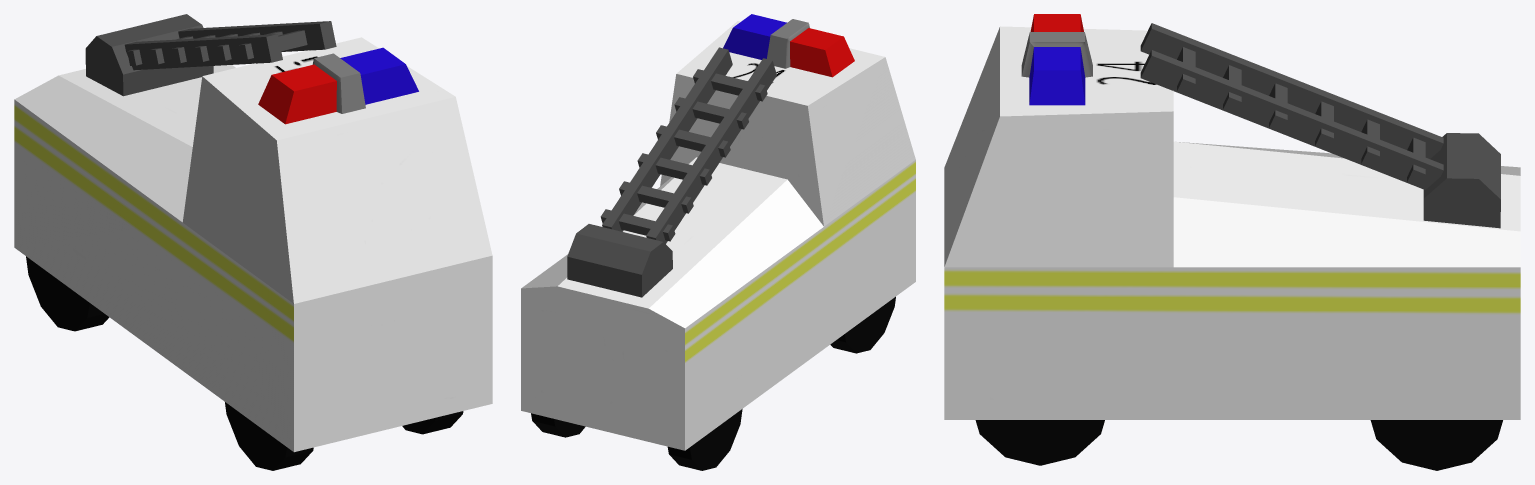
Rendered from firetruck_Two_Four.fbx.
3 renders of one model, left to right at view 1: azimuth 30°, elevation 25°; view 2: azimuth 150°, elevation 25°; view 3: azimuth 270°, elevation 25°, orthographic. The views are drawn at different scales.
Visible parts, largest first — view 1: polySurface41, pCube24, polySurface18, polySurface17, polySurface16; view 2: polySurface41, pCube24, polySurface18, polySurface17, polySurface15; view 3: polySurface41, pCube24, polySurface15, polySurface16.
Part boxes in pixels (x1,y1,x2,y2): polySurface41: [14, 37, 492, 452]; pCube24: [85, 14, 336, 96]; polySurface18: [26, 256, 109, 331]; polySurface17: [225, 402, 313, 470]; polySurface16: [402, 411, 463, 434]; polySurface41: [521, 14, 915, 450]; pCube24: [567, 47, 776, 297]; polySurface18: [667, 409, 742, 470]; polySurface17: [830, 296, 895, 353]; polySurface15: [531, 413, 585, 437]; polySurface41: [944, 14, 1520, 419]; pCube24: [1140, 23, 1500, 228]; polySurface15: [1370, 420, 1502, 470]; polySurface16: [975, 420, 1104, 465].
Size of the model in its own units: 2.41 by 4.34 by 5.87.
